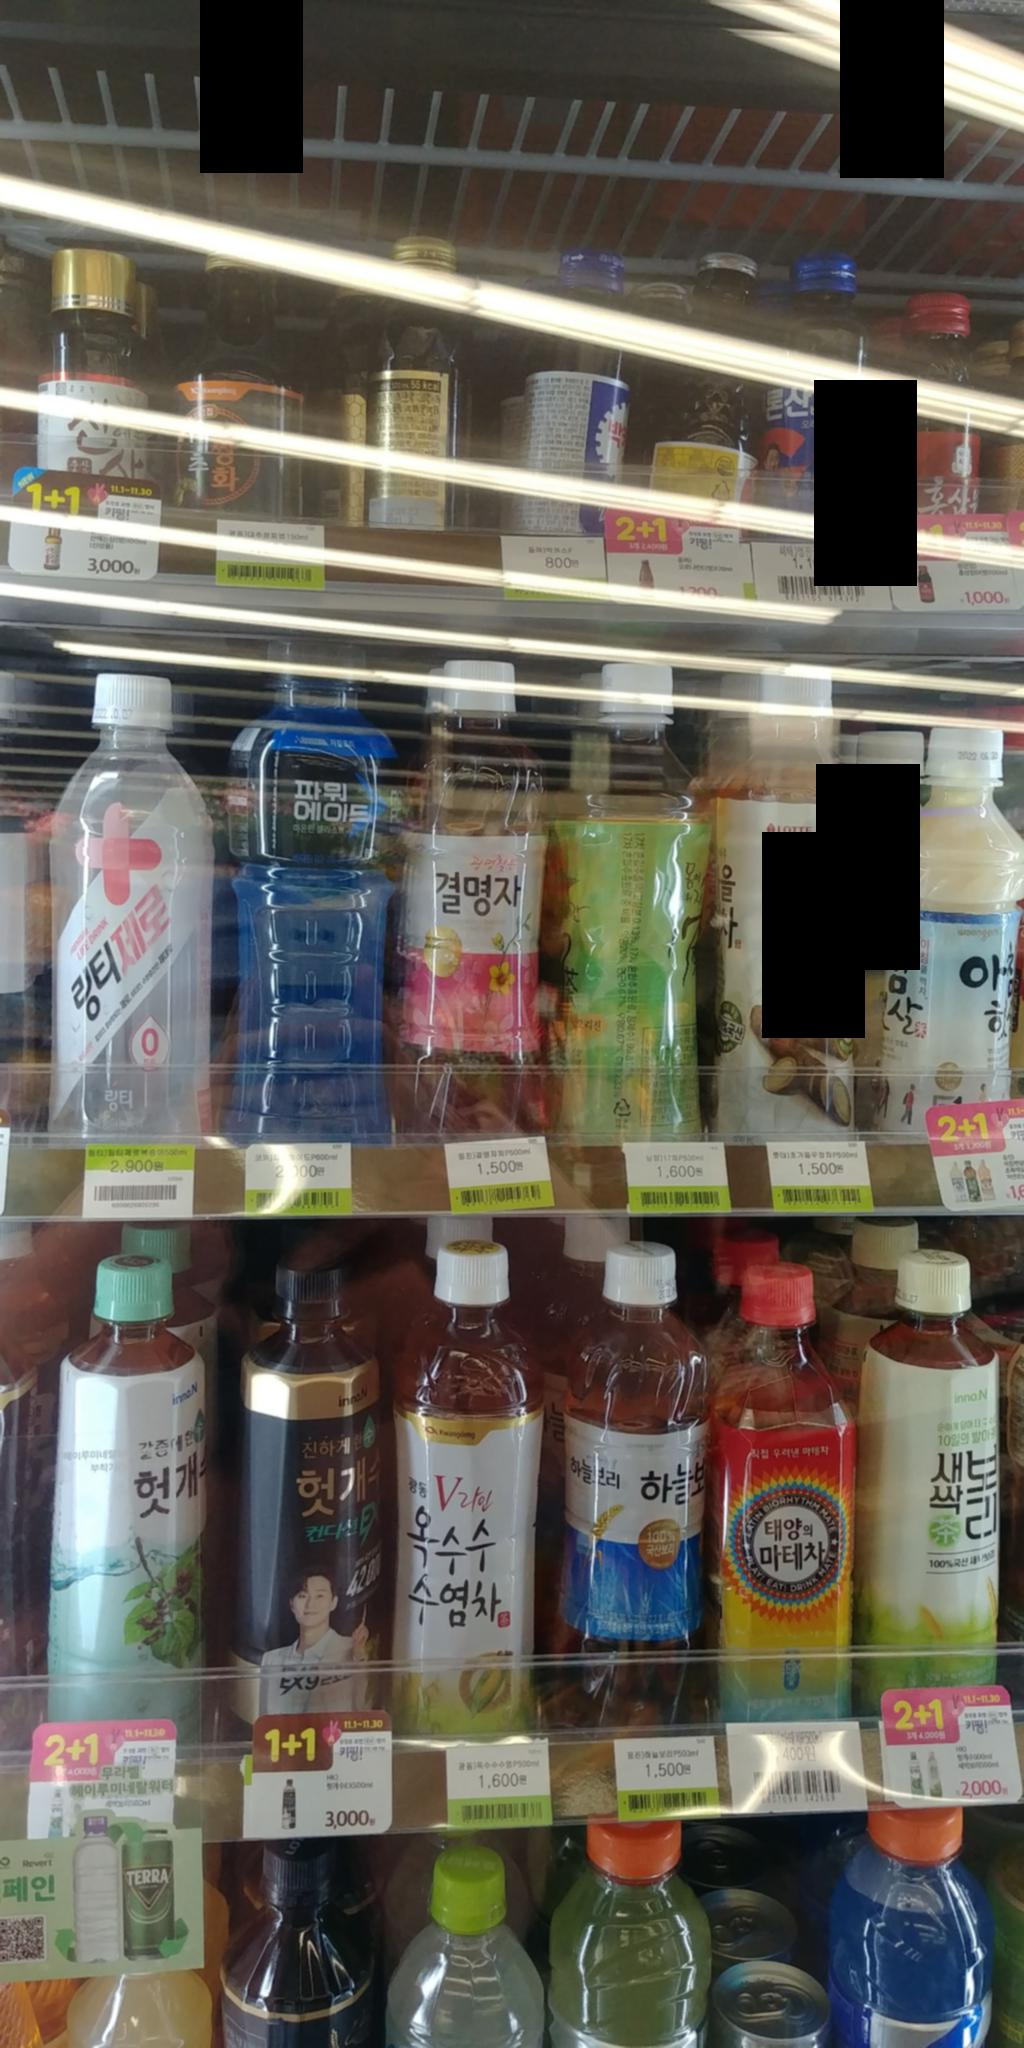haneulbori: (547, 1225, 713, 1732)
oksususuyeomcha: (380, 1233, 556, 1765)
powerade_mountainblast: (218, 616, 397, 1151)
